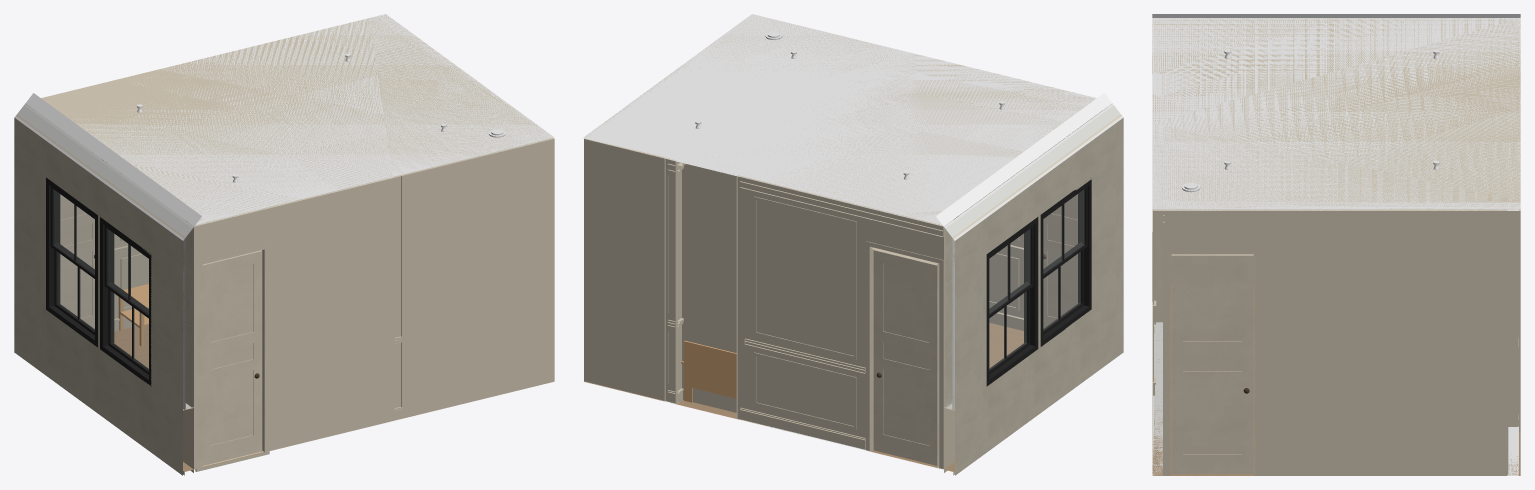
Rendered from green-bedroom-54c9c2673e30.glb.
3 views of the same model, side by side, from view 1: azimuth 30°, elevation 25°; view 2: azimuth 150°, elevation 25°; view 3: azimuth 270°, elevation 25° (orthographic). The views are drawn at different scales.
Visible parts, largest first — view 1: green-bedroom-eb02897c2e79e2b1, green-bedroom-e8793759323e04f0, green-bedroom-9d91b47435c6fb33, green-bedroom-312b4ac1be39223d, green-bedroom-7406100458e293ce, green-bedroom-33ee0b466567e5f0, green-bedroom-eea30be35ce76d8a, green-bedroom-b27266f3159d5f34, green-bedroom-5e646f76b0244fe8, green-bedroom-39b94aca90fa4b53, green-bedroom-3a4d9d62ecd7be1c, green-bedroom-442e5a19ed849720 (+5 smaller); view 2: green-bedroom-9d91b47435c6fb33, green-bedroom-b6ab44e8ab2b63f4, green-bedroom-8d8280a2b3ef8b4c, green-bedroom-312b4ac1be39223d, green-bedroom-e8793759323e04f0, green-bedroom-5e646f76b0244fe8, green-bedroom-33ee0b466567e5f0, green-bedroom-689020e0fc226264, green-bedroom-eea30be35ce76d8a, green-bedroom-b27266f3159d5f34, green-bedroom-7406100458e293ce, green-bedroom-4fe5579be934d30a (+10 smaller); view 3: green-bedroom-64efeecf845bccca, green-bedroom-9d91b47435c6fb33, green-bedroom-e8793759323e04f0, green-bedroom-b50904fb6ee0544e, green-bedroom-689020e0fc226264, green-bedroom-eb02897c2e79e2b1, green-bedroom-34287d1b870c745c, green-bedroom-2575515a05775d9e, green-bedroom-442e5a19ed849720, green-bedroom-8d8280a2b3ef8b4c, green-bedroom-4fe5579be934d30a.
Part boxes in pixels (box(x1,y1,x2,y2)): green-bedroom-eb02897c2e79e2b1: box(188, 139, 554, 469); green-bedroom-e8793759323e04f0: box(27, 14, 552, 224); green-bedroom-9d91b47435c6fb33: box(25, 14, 554, 226); green-bedroom-312b4ac1be39223d: box(14, 116, 184, 409); green-bedroom-7406100458e293ce: box(202, 250, 262, 465); green-bedroom-33ee0b466567e5f0: box(14, 287, 193, 475); green-bedroom-eea30be35ce76d8a: box(46, 177, 97, 347); green-bedroom-b27266f3159d5f34: box(100, 217, 151, 386); green-bedroom-5e646f76b0244fe8: box(60, 138, 100, 328); green-bedroom-39b94aca90fa4b53: box(17, 105, 192, 409); green-bedroom-3a4d9d62ecd7be1c: box(24, 103, 193, 407); green-bedroom-442e5a19ed849720: box(201, 247, 266, 467); green-bedroom-9d91b47435c6fb33: box(583, 14, 1112, 226); green-bedroom-b6ab44e8ab2b63f4: box(736, 176, 949, 469); green-bedroom-8d8280a2b3ef8b4c: box(584, 138, 681, 403); green-bedroom-312b4ac1be39223d: box(953, 116, 1123, 409); green-bedroom-e8793759323e04f0: box(585, 15, 1110, 224); green-bedroom-5e646f76b0244fe8: box(873, 250, 937, 465); green-bedroom-33ee0b466567e5f0: box(944, 287, 1123, 475); green-bedroom-689020e0fc226264: box(676, 160, 737, 418); green-bedroom-eea30be35ce76d8a: box(986, 217, 1038, 386); green-bedroom-b27266f3159d5f34: box(1040, 179, 1091, 346); green-bedroom-7406100458e293ce: box(1039, 137, 1077, 328); green-bedroom-4fe5579be934d30a: box(664, 158, 676, 403); green-bedroom-64efeecf845bccca: box(1163, 209, 1508, 475); green-bedroom-9d91b47435c6fb33: box(1152, 18, 1520, 210); green-bedroom-e8793759323e04f0: box(1152, 14, 1520, 209); green-bedroom-b50904fb6ee0544e: box(1171, 254, 1253, 474); green-bedroom-689020e0fc226264: box(1508, 211, 1518, 426); green-bedroom-eb02897c2e79e2b1: box(1152, 209, 1164, 475); green-bedroom-34287d1b870c745c: box(1169, 252, 1256, 475); green-bedroom-2575515a05775d9e: box(1152, 284, 1520, 475); green-bedroom-442e5a19ed849720: box(1156, 211, 1162, 322); green-bedroom-8d8280a2b3ef8b4c: box(1507, 209, 1518, 475); green-bedroom-4fe5579be934d30a: box(1519, 211, 1520, 432).
Bounding box in the file's own units: 4.64 × 3.04 × 3.65.
26 materials, 5 textured.
